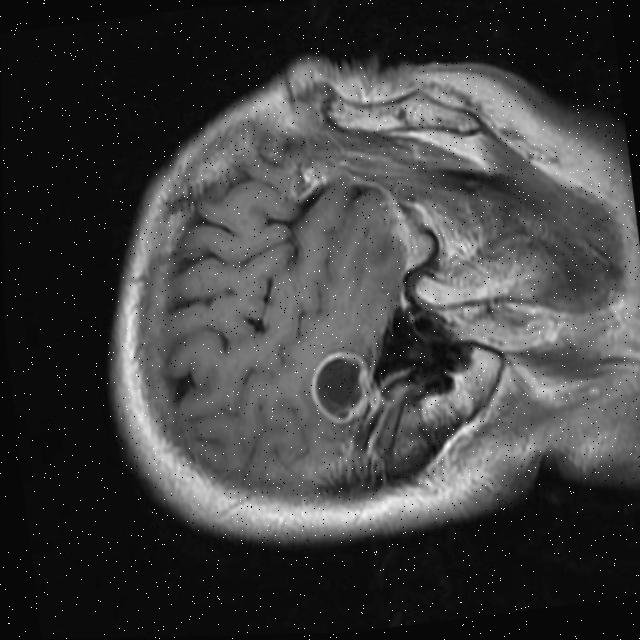Glioma: (305, 347, 375, 427)
